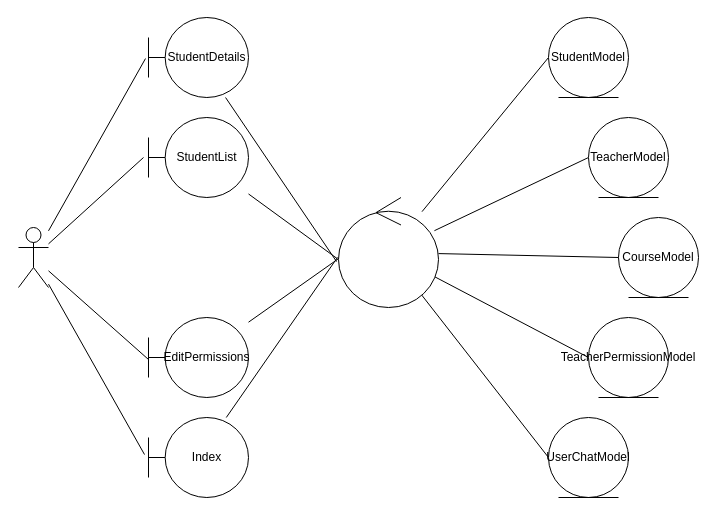
Image size: 716x515. Some labels were removed from this diagram. Each missing label, with the box of its shape:
SettingsController: (338, 196, 438, 308)
Автор: (18, 226, 48, 288)
